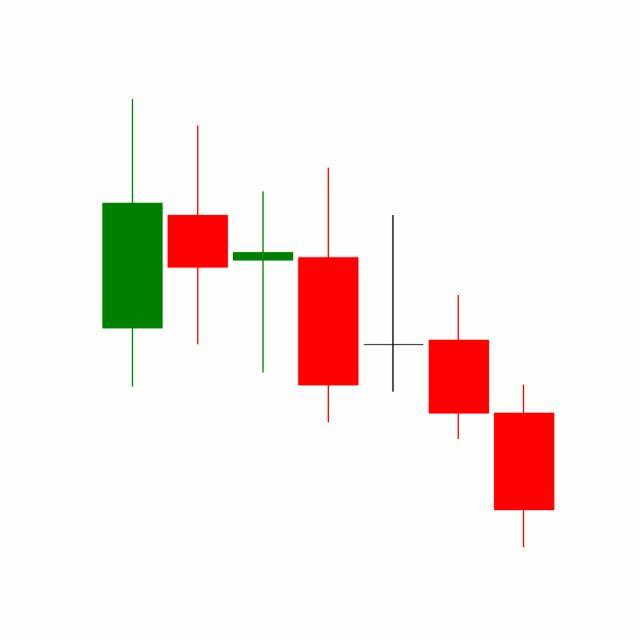Hikkake Pattern: (165, 122, 492, 443)
